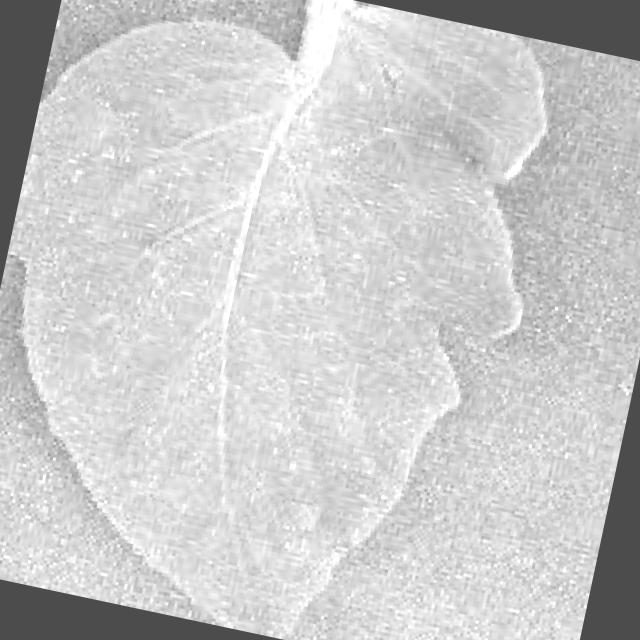healthy: (7, 0, 546, 638)
